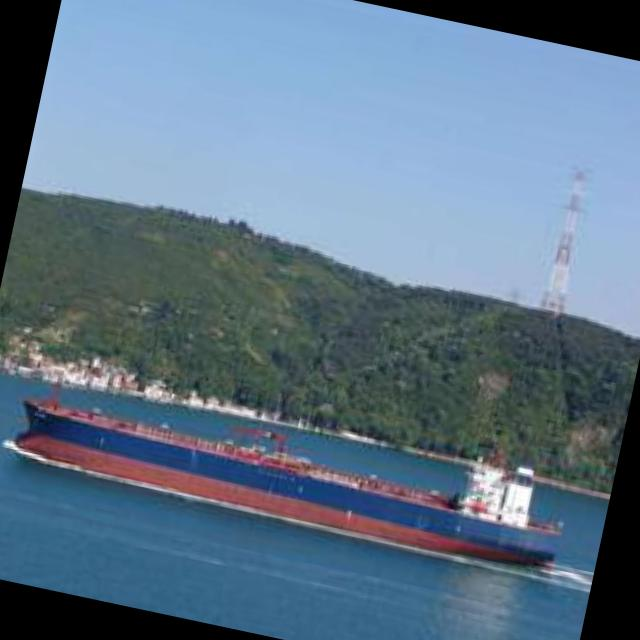boat: (4, 376, 580, 586)
